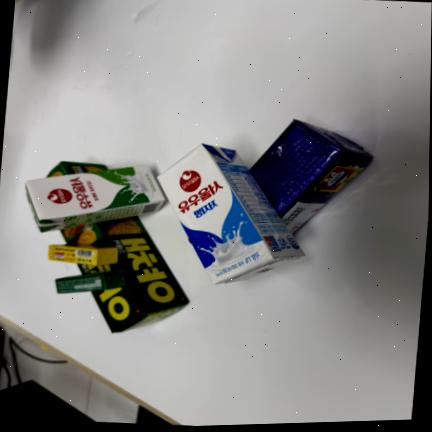cracker_ace: (250, 119, 373, 233)
cracker_vege: (35, 161, 189, 334)
gum_green: (53, 272, 128, 293)
gum_yellow: (47, 243, 118, 266)
milk_blue: (157, 144, 303, 284)
milk_green: (25, 165, 164, 232)
